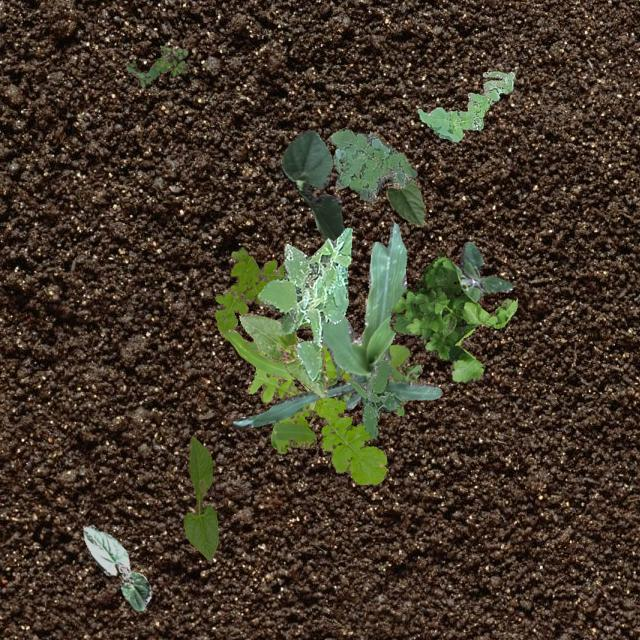crop: (232, 220, 440, 428), (222, 328, 330, 408), (238, 312, 326, 396), (280, 130, 344, 240), (81, 524, 150, 610), (368, 130, 424, 226), (182, 436, 218, 560), (276, 312, 340, 378), (326, 378, 352, 401)
weed: (246, 344, 408, 484), (388, 250, 516, 382), (256, 226, 352, 380), (416, 70, 514, 140), (328, 128, 416, 200), (213, 248, 283, 334), (350, 359, 400, 436), (454, 240, 512, 300), (125, 44, 187, 86), (386, 362, 422, 416), (386, 348, 390, 361)
